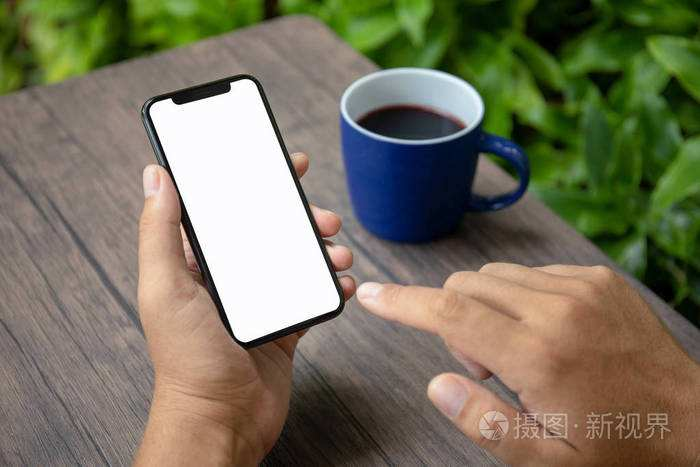phone: (131, 72, 356, 436)
